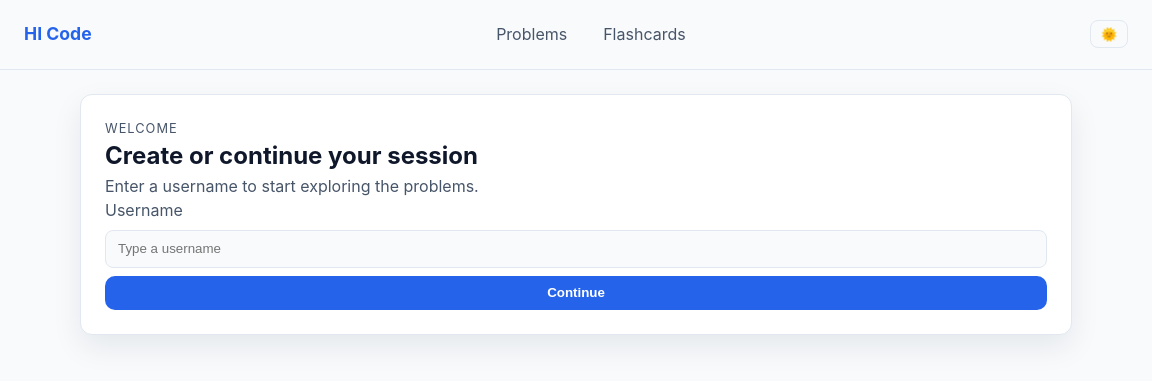
Test: App › creates a user and loads the problems list
Expected: the button "Continue" is shown, [105,276,1047,310]
Type "Ada" into the field labelled "Username" at (576, 249), box [105,230,1047,268]
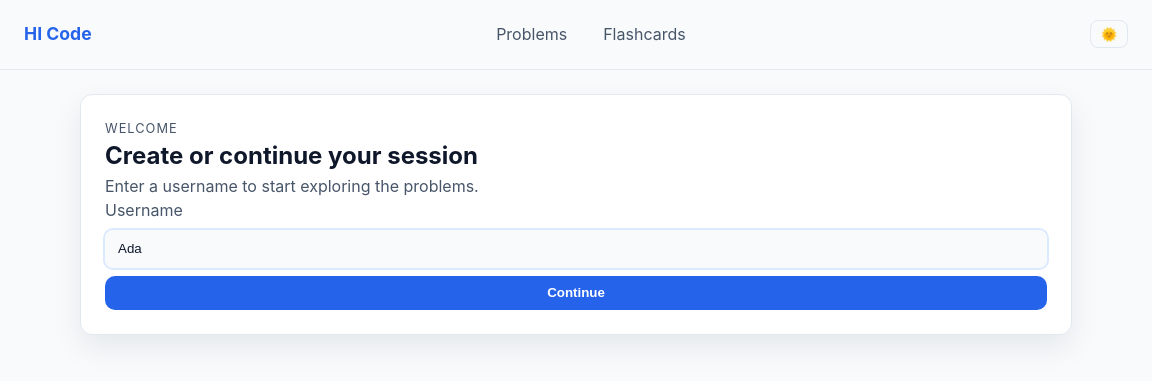
Click the button "Continue" at (576, 293), box [105,276,1047,310]
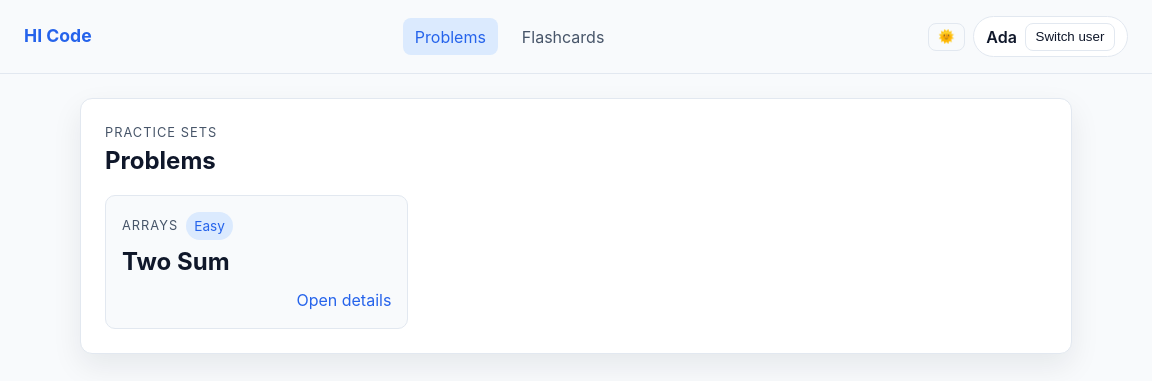
Result: the heading "Two Sum" is shown at [122,247,230,276]
